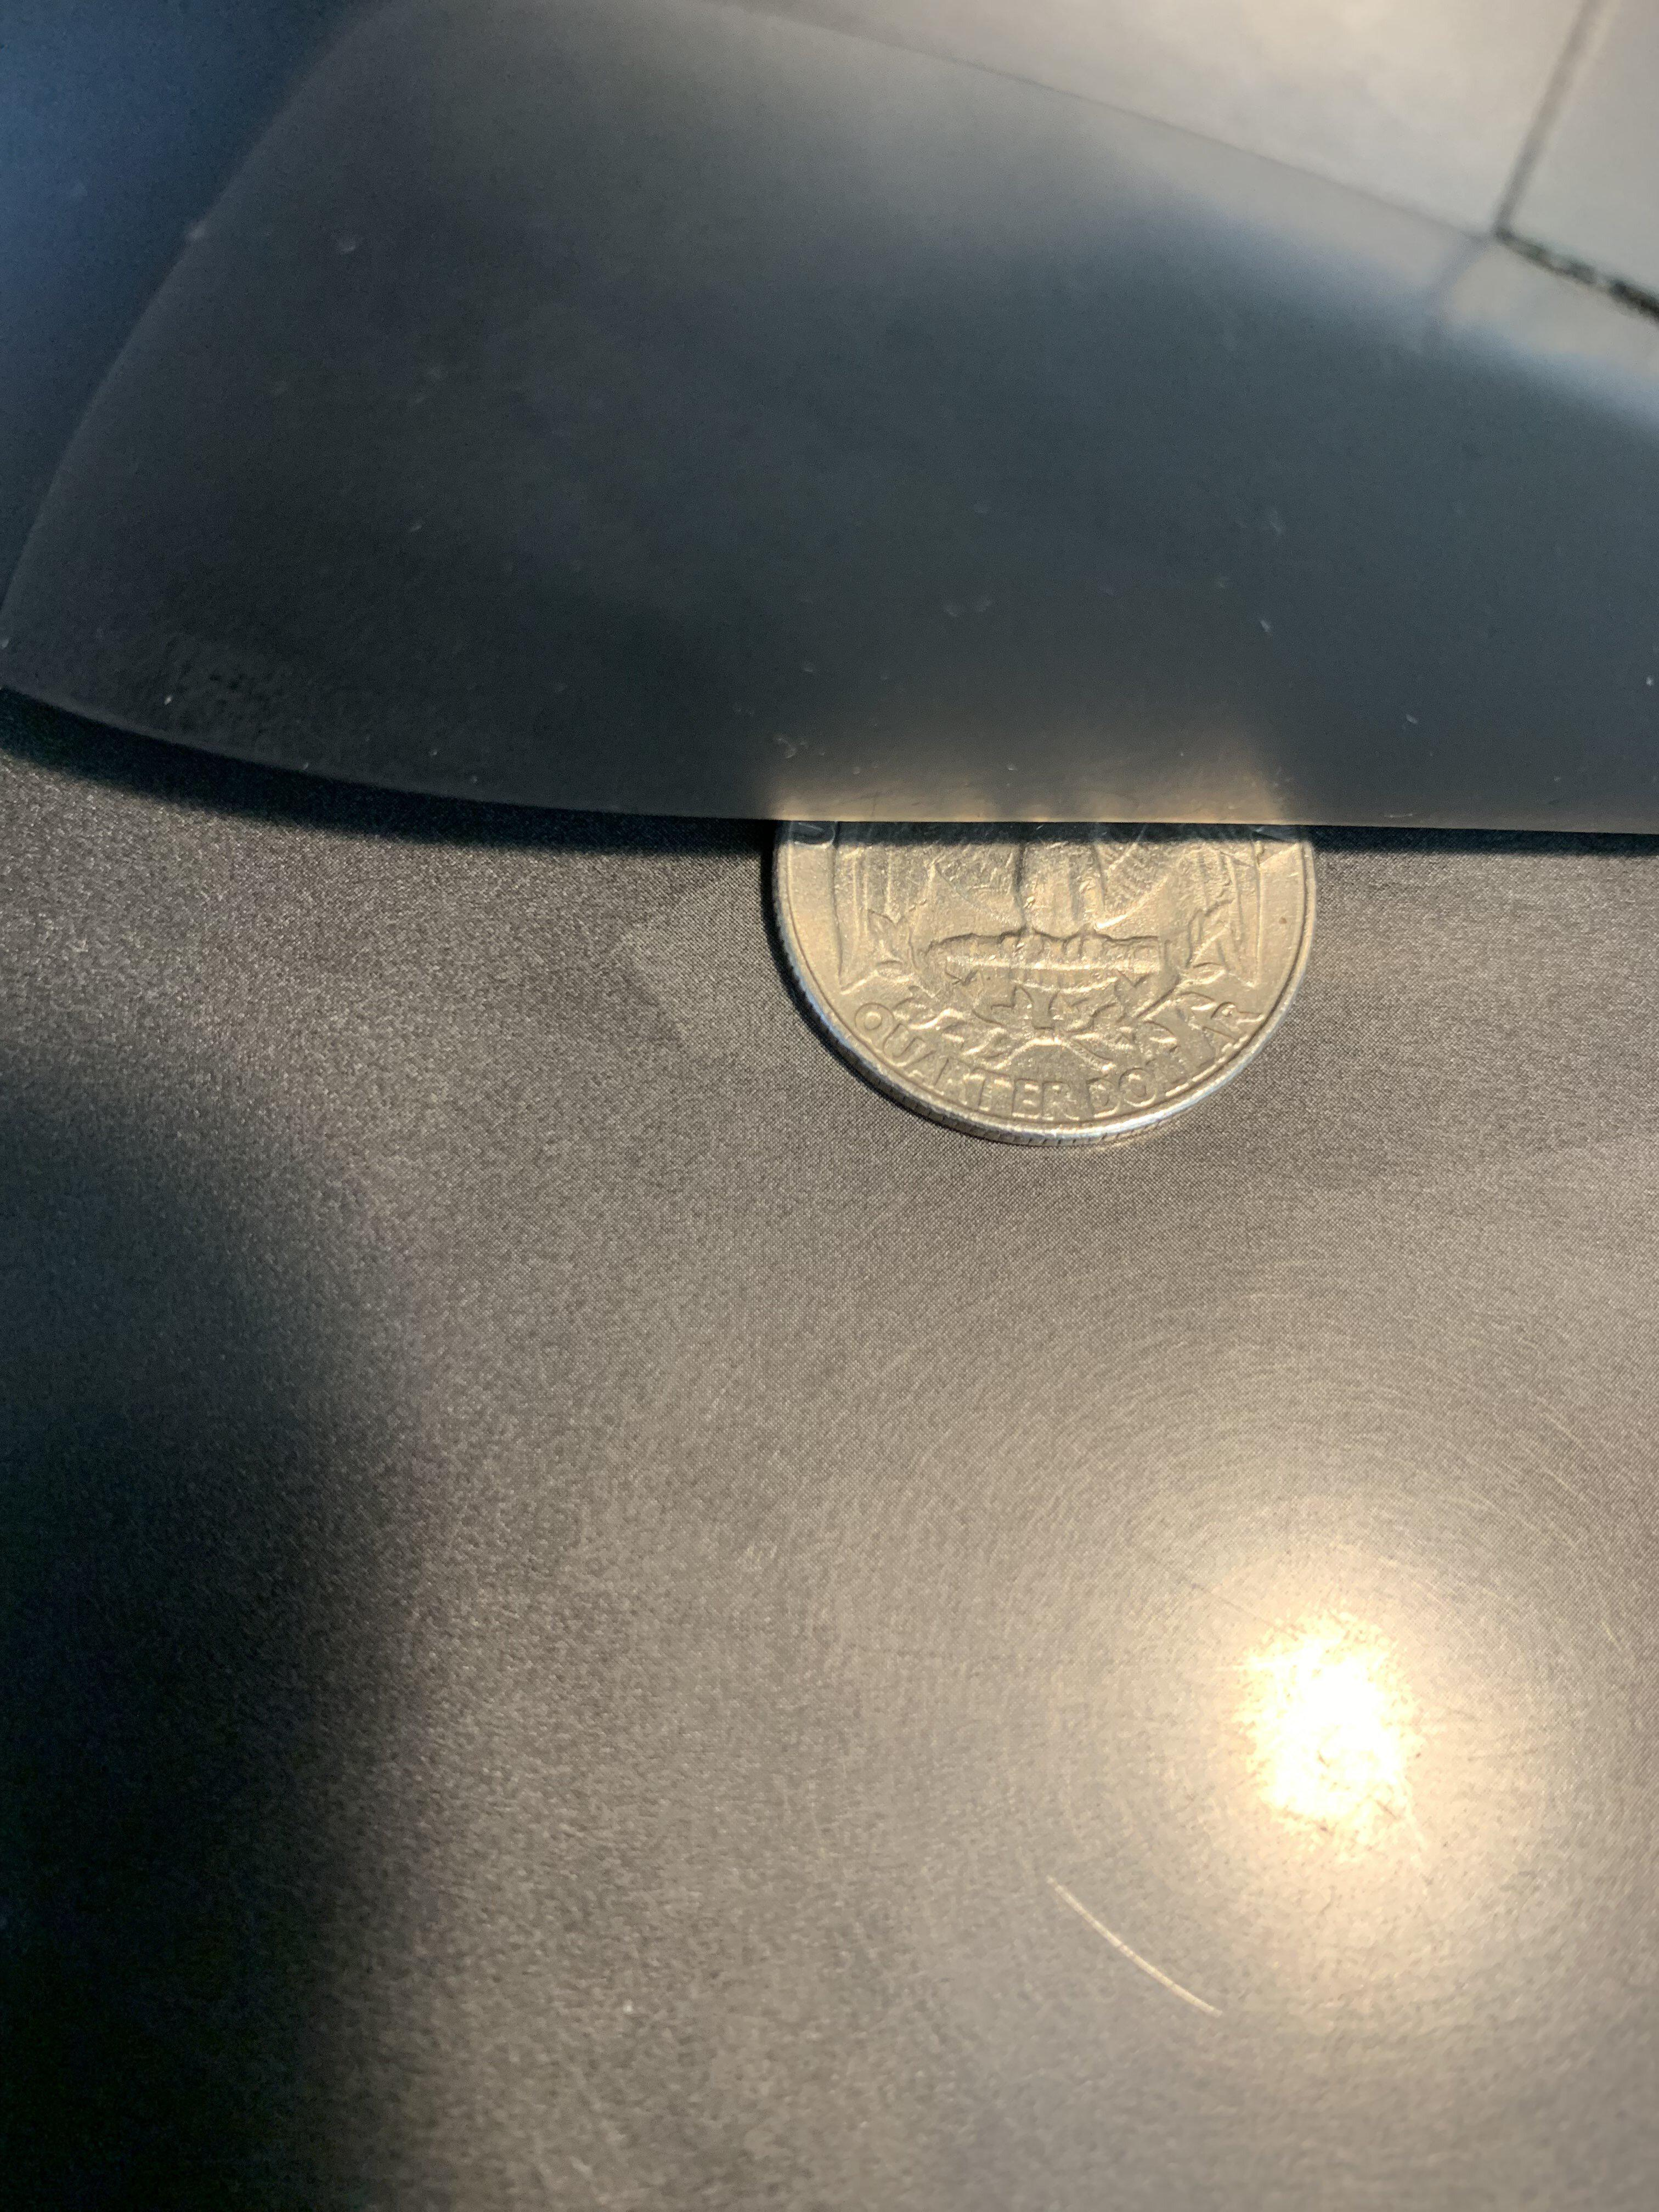Quarter: (725, 737, 1424, 1228)
